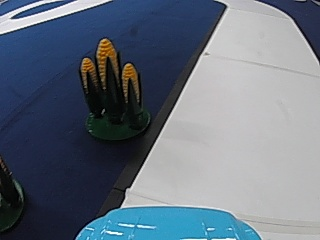corn: (76, 34, 153, 141)
